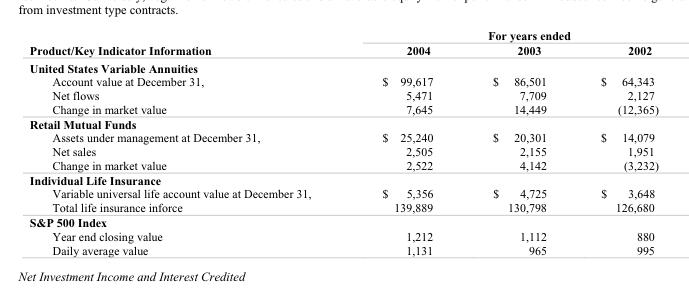table: (28, 28, 657, 256)
table column: (28, 28, 345, 256), (345, 28, 462, 256), (462, 28, 573, 256), (573, 28, 657, 256)
table column header: (28, 28, 657, 58)
table projected row header: (28, 58, 657, 74), (28, 214, 657, 229), (28, 116, 657, 130), (28, 172, 657, 186)
table row: (28, 42, 657, 58), (28, 58, 657, 74), (28, 214, 657, 229), (28, 28, 657, 42), (28, 74, 657, 88), (28, 88, 657, 102), (28, 102, 657, 116), (28, 116, 657, 130), (28, 130, 657, 144), (28, 144, 657, 158), (28, 158, 657, 172), (28, 172, 657, 186), (28, 186, 657, 200), (28, 200, 657, 214), (28, 242, 657, 256), (28, 229, 657, 242)
table spanning cell: (28, 28, 345, 58), (345, 28, 657, 42)
